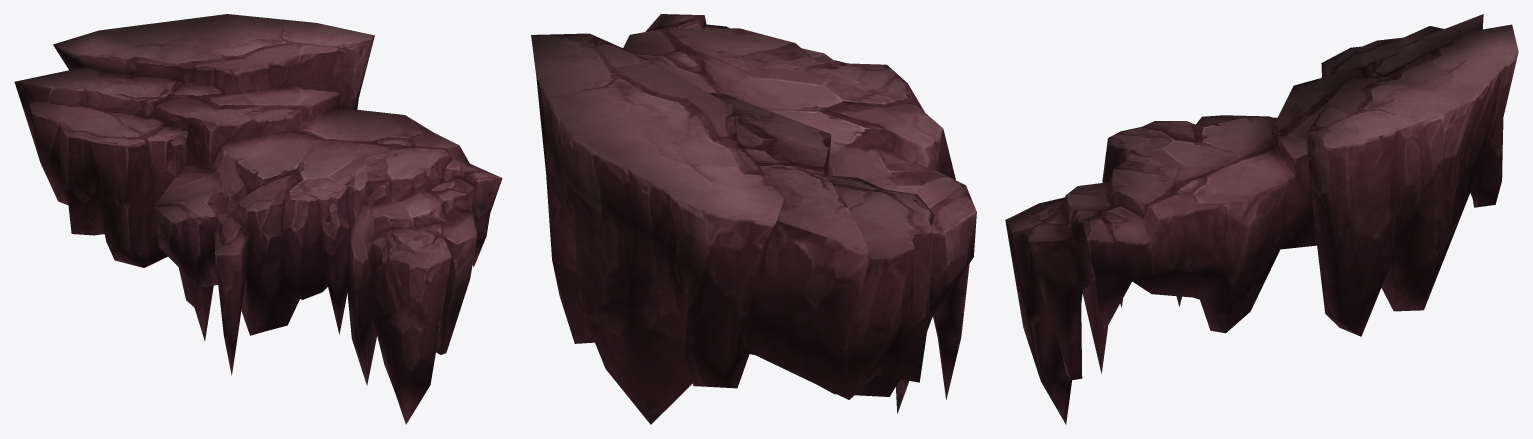
File: Area_01_9.fbx
3 views of the same model, side by side, from view 1: azimuth 30°, elevation 25°; view 2: azimuth 150°, elevation 25°; view 3: azimuth 270°, elevation 25° (orthographic). The views are drawn at different scales.
Visible parts, largest first — view 1: Area_01_9; view 2: Area_01_9; view 3: Area_01_9.
Part boxes in pixels (x1=…): Area_01_9: x1=14, y1=14, x2=502, y2=424; Area_01_9: x1=531, y1=14, x2=976, y2=424; Area_01_9: x1=1005, y1=14, x2=1518, y2=424.
Bounding box in the file's own units: 1677 × 1423 × 2052.
